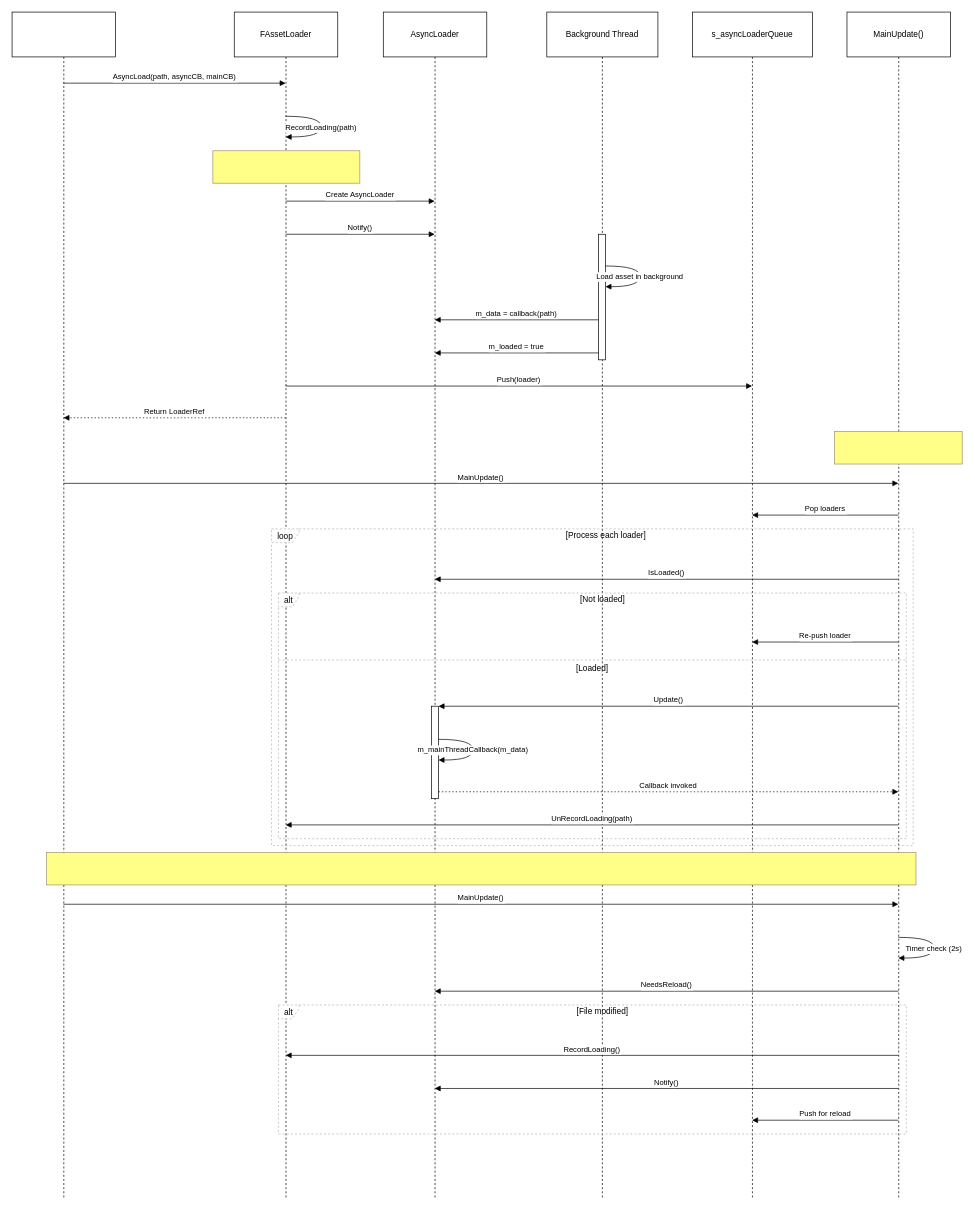
Image size: 975x1212. Some labels were removed from this diagram. Each missing label, with the box of its shape:
Called from game loop: (834, 431, 962, 464)
Client: (11, 11, 116, 1200)
Prevents duplicate loading: (212, 150, 360, 183)
Watch flow (2s interval): (46, 852, 916, 885)
